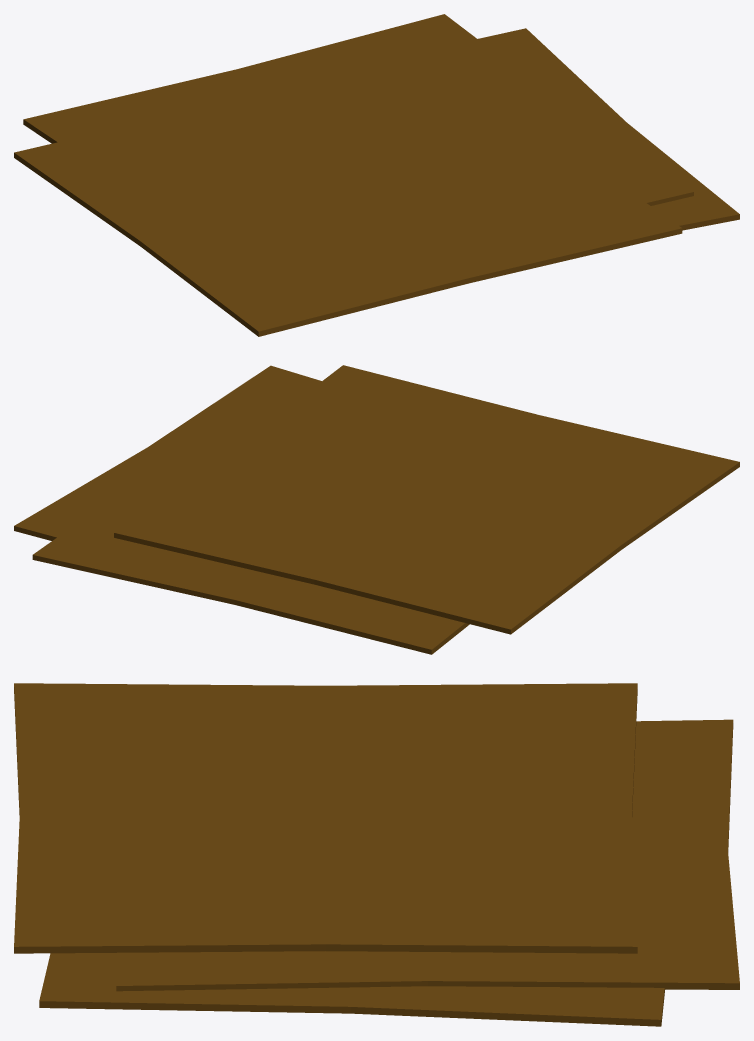
File: Cheese_Singles.obj
3 renders of one model, top to bottom at view 1: azimuth 30°, elevation 25°; view 2: azimuth 150°, elevation 25°; view 3: azimuth 270°, elevation 25°, orthographic. The views are drawn at different scales.
Visible parts, largest first — view 1: Cheese_Singles_Plane.002; view 2: Cheese_Singles_Plane.002; view 3: Cheese_Singles_Plane.002.
Part boxes in pixels (x1,y1,x2,y2): Cheese_Singles_Plane.002: (14,14,739,336); Cheese_Singles_Plane.002: (14,365,739,654); Cheese_Singles_Plane.002: (14,683,739,1026).
Size of the model in its own units: 1.03 by 0.0284 by 0.9751.
